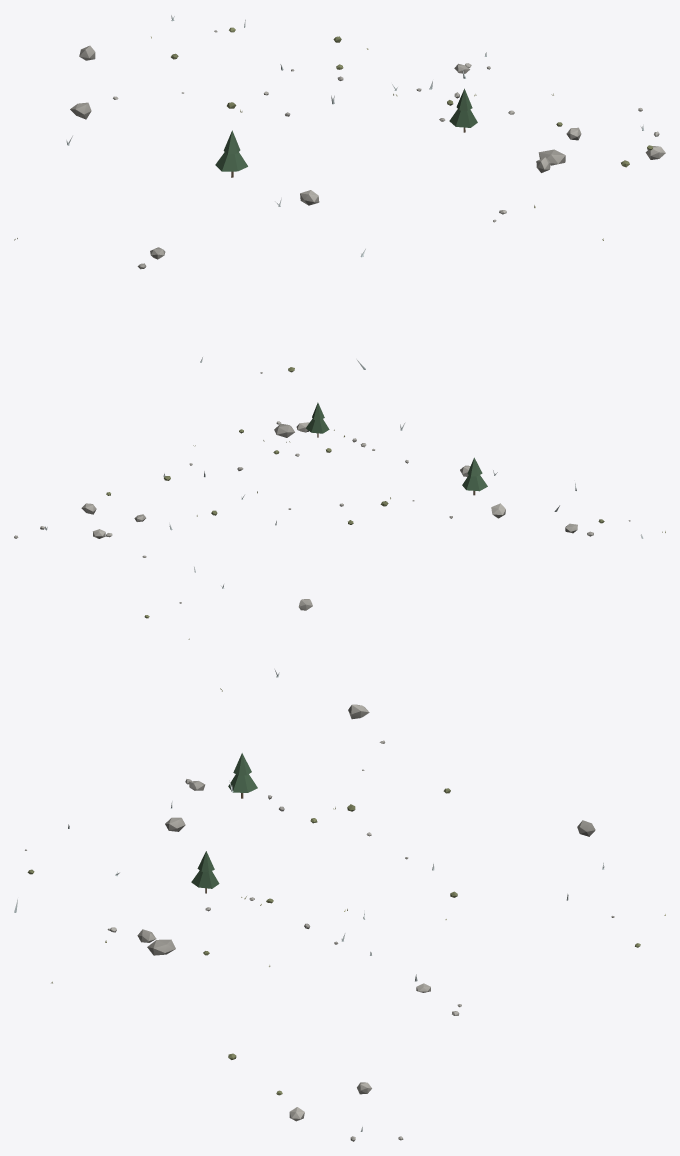
Rendered from coast_land_scatter_c11_25_lod1.glb.
The picture shows the model from 3 angles, top to bottom: view 1: azimuth 30°, elevation 25°; view 2: azimuth 150°, elevation 25°; view 3: azimuth 270°, elevation 25°; orthographic projection. The views are drawn at different scales.
Parts seen in each view (by area): view 1: coast_land_scatter_c11_25_lod1; view 2: coast_land_scatter_c11_25_lod1; view 3: coast_land_scatter_c11_25_lod1.
Part boxes in pixels (bbox=[...]): coast_land_scatter_c11_25_lod1: bbox=[14, 15, 665, 373]; coast_land_scatter_c11_25_lod1: bbox=[14, 402, 665, 639]; coast_land_scatter_c11_25_lod1: bbox=[14, 669, 665, 1141].
Bounding box in the file's own units: 188 × 45.85 × 152.
